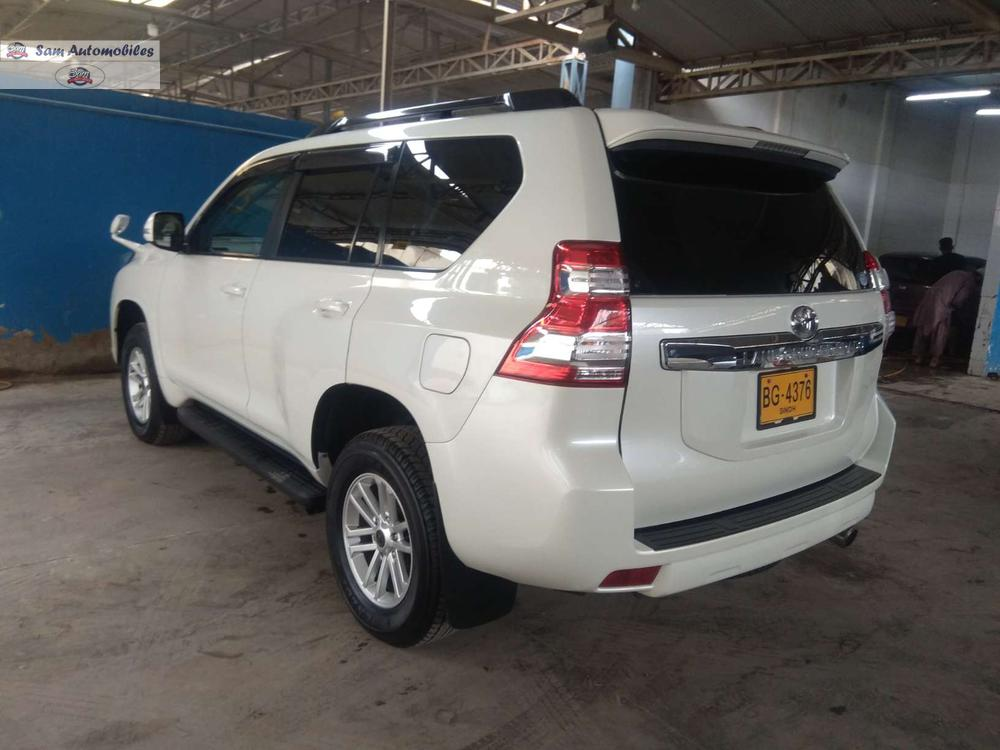license plate: (762, 375, 817, 416)
